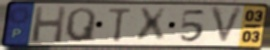5: (178, 8, 208, 43)
H: (30, 5, 68, 44)
Q: (64, 6, 98, 43)
T: (107, 7, 135, 44)
V: (209, 5, 247, 46)
X: (135, 6, 169, 44)
